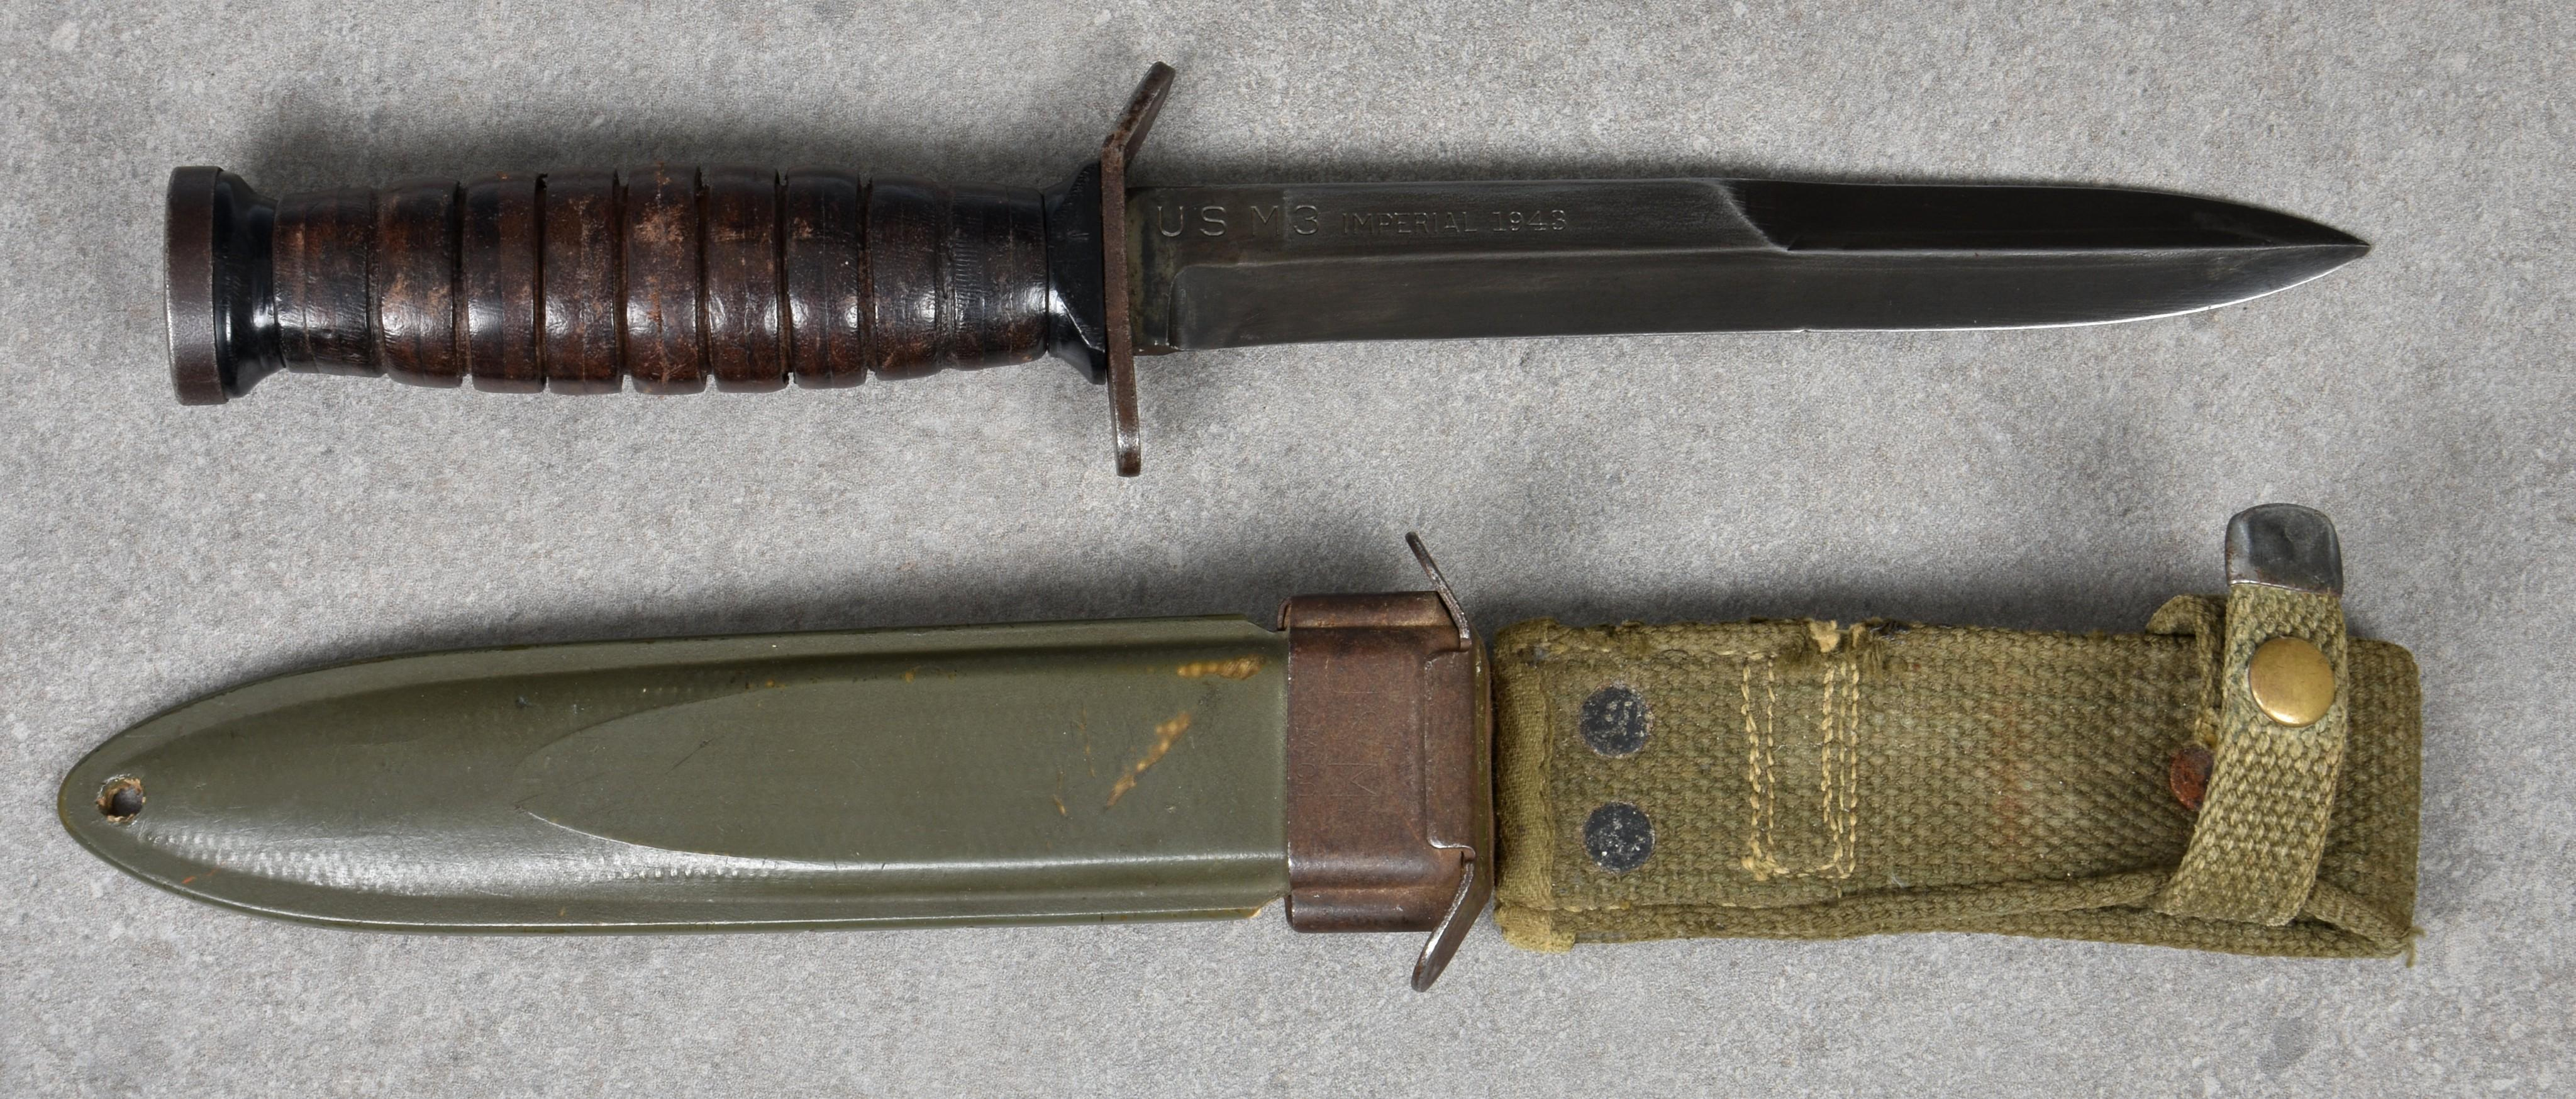faca: (166, 62, 2367, 476)
